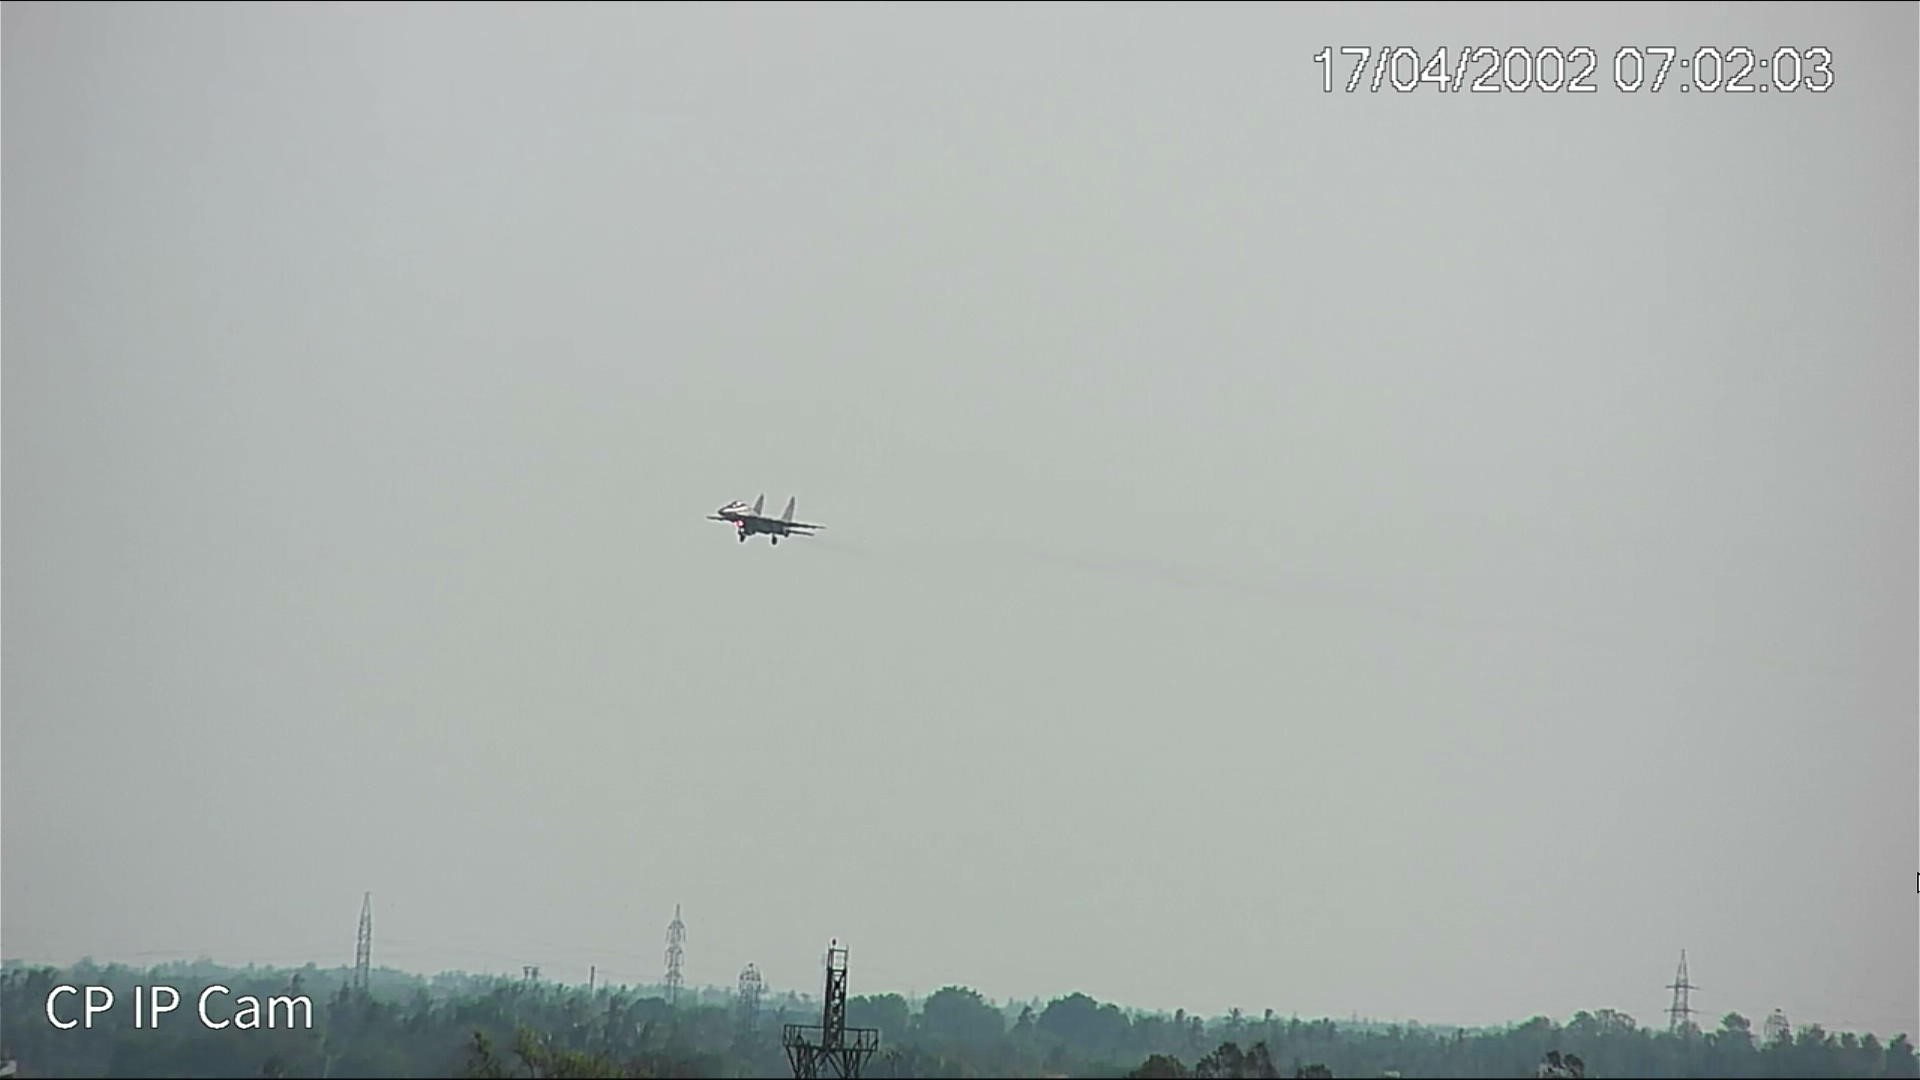SU_30: (705, 495, 827, 545)
